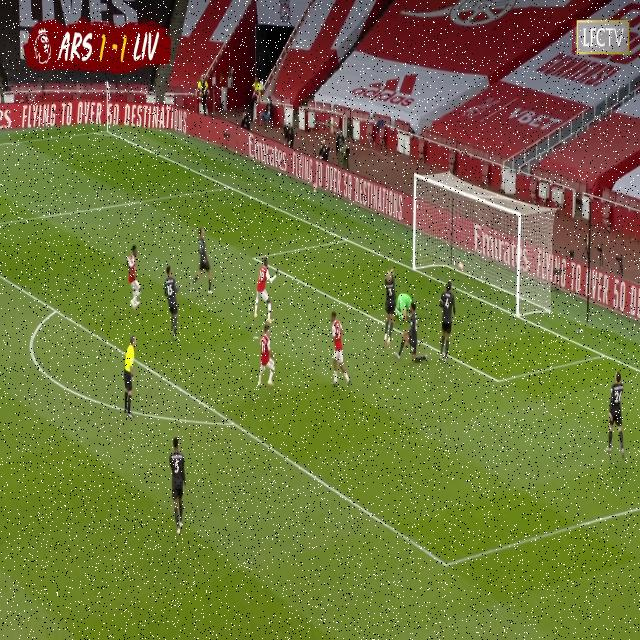Ball: (455, 257, 464, 275)
GoalKeeper: (398, 288, 416, 323)
TEAM 1: (252, 246, 274, 325), (331, 311, 346, 390), (257, 327, 276, 389), (126, 246, 142, 312)
TEAM 2: (393, 292, 421, 361), (605, 371, 626, 457), (170, 437, 188, 536), (189, 228, 214, 295), (163, 267, 181, 342), (440, 282, 456, 363), (384, 267, 399, 345)
